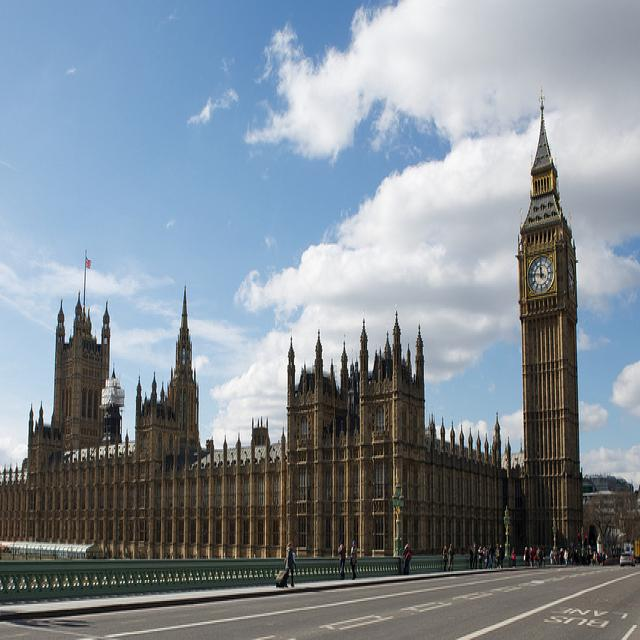Vehicle: (620, 553, 636, 567)
